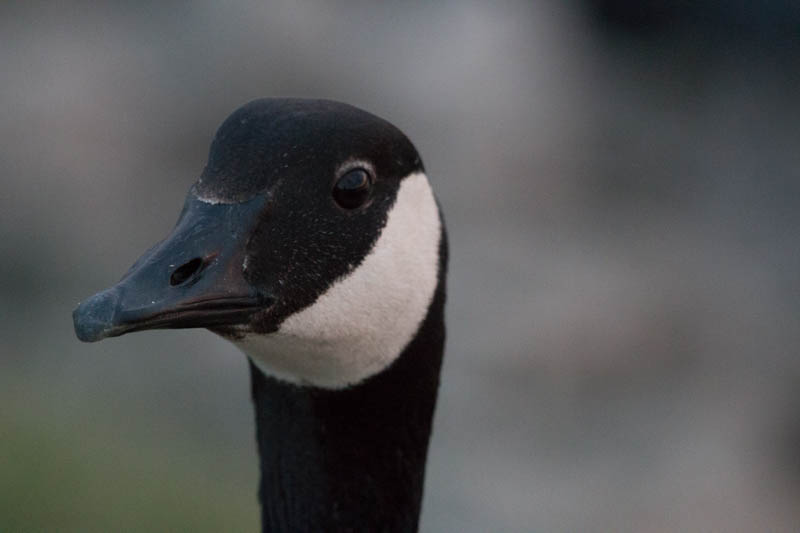goose-head: (71, 97, 450, 399)
